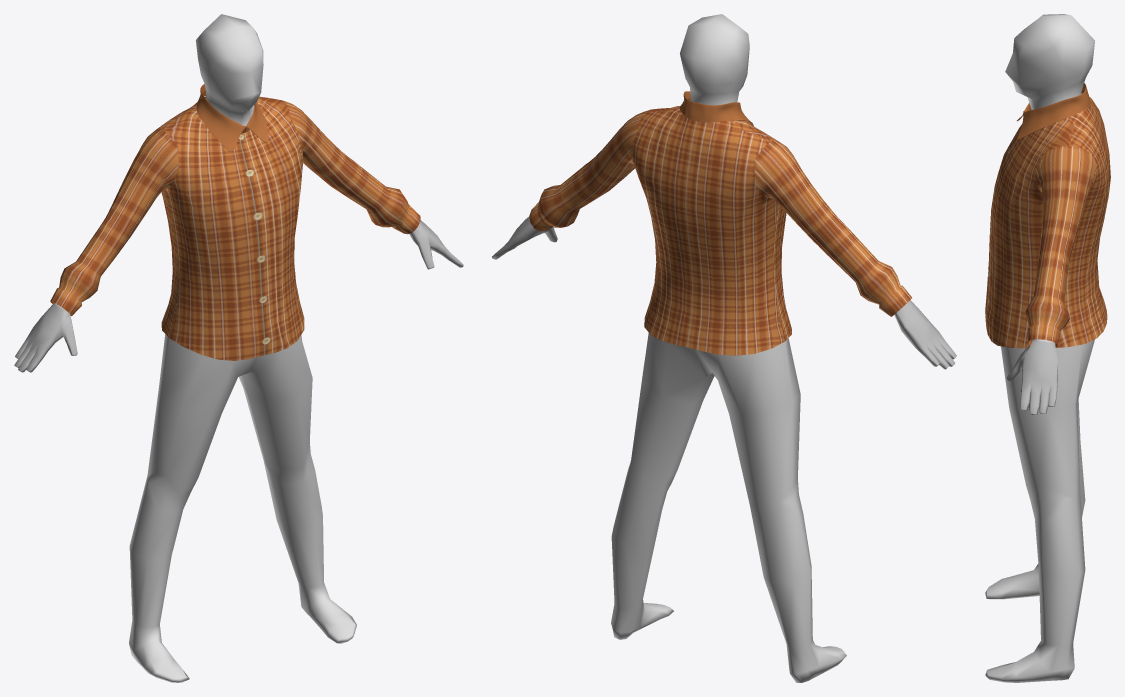
Rendered from orange_shirt_with_collar.glb.
3 views of the same model, side by side, from view 1: azimuth 30°, elevation 25°; view 2: azimuth 150°, elevation 25°; view 3: azimuth 270°, elevation 25° (orthographic). The views are drawn at different scales.
Parts seen in each view (by area): view 1: Shirt, head_low, hand_R_low, Plane_Plane.001, hand_L_low; view 2: Shirt, head_low, hand_R_low, Plane_Plane.001, hand_L_low; view 3: Shirt, head_low, hand_L_low, Plane_Plane.001.
Part boxes in pixels (x1,y1,x2,y2): Shirt: [50, 96, 420, 360]; head_low: [53, 14, 356, 682]; hand_R_low: [14, 303, 77, 372]; Plane_Plane.001: [196, 84, 268, 151]; hand_L_low: [409, 220, 463, 269]; Shirt: [529, 106, 911, 355]; head_low: [611, 14, 905, 682]; hand_R_low: [894, 300, 956, 369]; Plane_Plane.001: [679, 91, 753, 125]; hand_L_low: [492, 216, 557, 259]; Shirt: [985, 93, 1110, 348]; head_low: [985, 14, 1094, 682]; hand_L_low: [1006, 341, 1057, 414]; Plane_Plane.001: [1017, 83, 1090, 139].
Bounding box in the file's own units: 1.34 × 1.79 × 0.3283.
4 materials, 2 textured.
